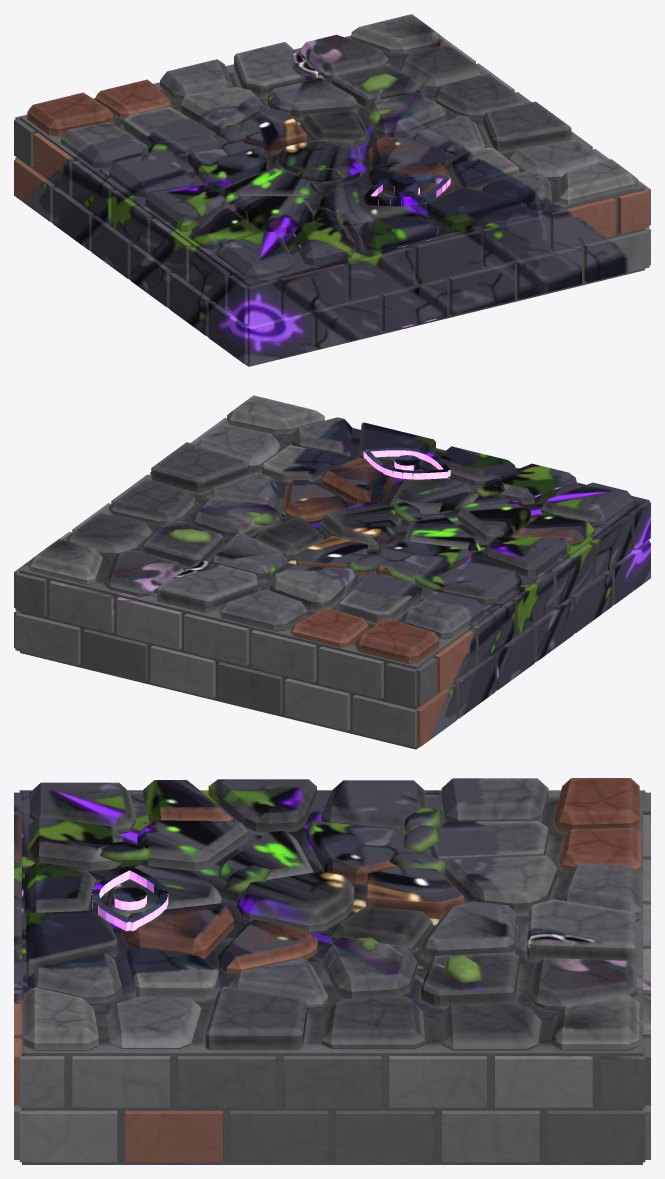
File: hex_plate.glb
3 views of the same model, one above another, from view 1: azimuth 30°, elevation 25°; view 2: azimuth 150°, elevation 25°; view 3: azimuth 270°, elevation 25° (orthographic). The views are drawn at different scales.
Visible parts, largest first — view 1: hex_plate; view 2: hex_plate; view 3: hex_plate.
Part boxes in pixels (box(x1,y1,x2,y2)): hex_plate: box(14, 14, 650, 366); hex_plate: box(14, 395, 650, 749); hex_plate: box(14, 778, 650, 1164).
Size of the model in its own units: 2.01 by 0.484 by 2.01.
1 material, 1 textured.
